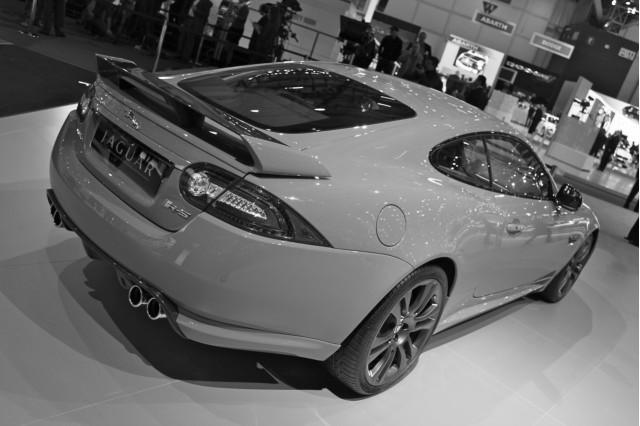car: (45, 53, 602, 399)
